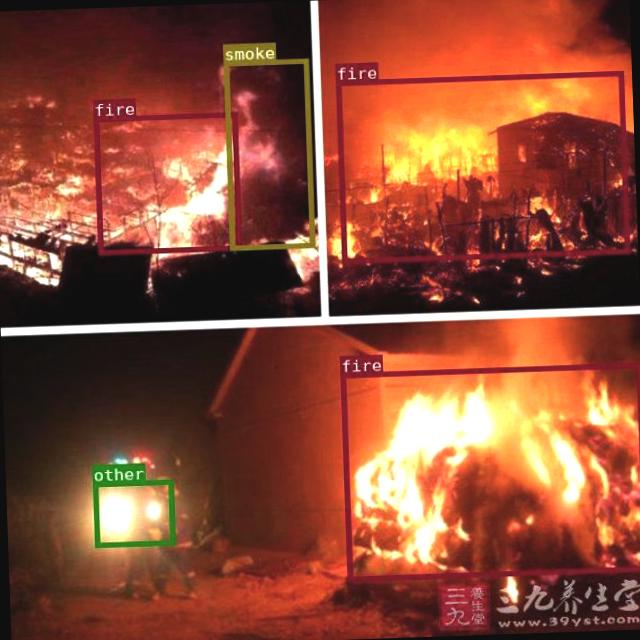fire: (339, 362, 640, 579), (334, 70, 628, 263), (92, 112, 241, 254)
smoke: (222, 58, 314, 248)
